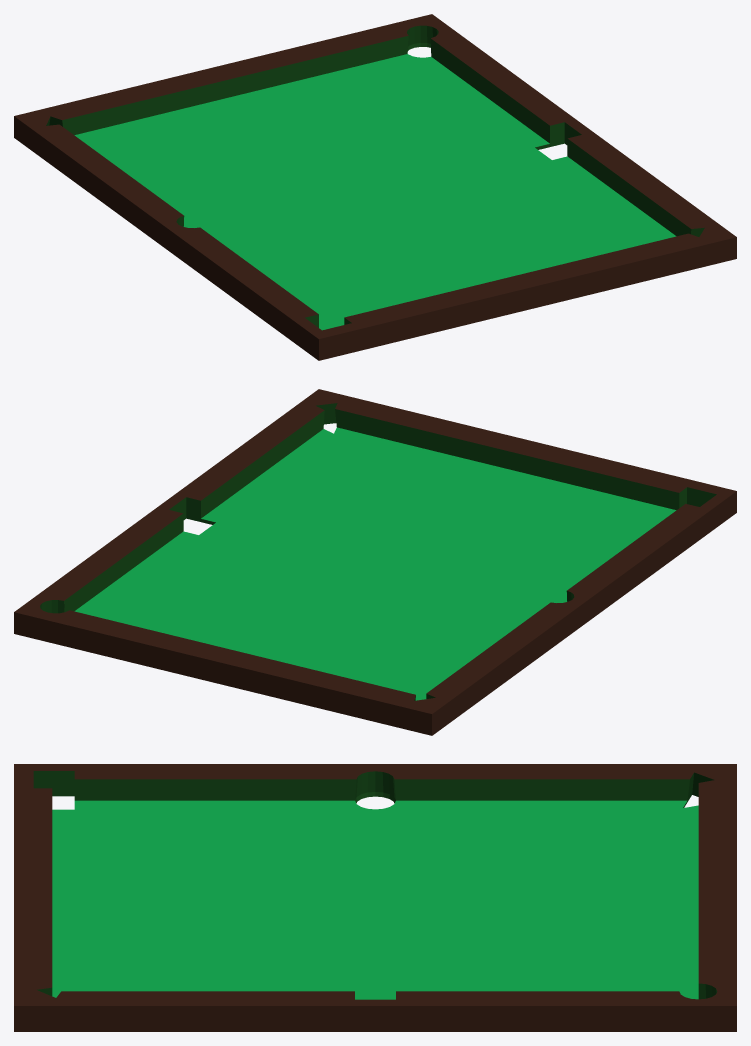
Rendered from board.fbx.
3 views of the same model, one above another, from view 1: azimuth 30°, elevation 25°; view 2: azimuth 150°, elevation 25°; view 3: azimuth 270°, elevation 25° (orthographic). The views are drawn at different scales.
Parts seen in each view (by area): view 1: board; view 2: board; view 3: board.
Part boxes in pixels (left/top/right/bottom): board: left=14, top=14, right=736, bottom=360; board: left=14, top=389, right=736, bottom=735; board: left=14, top=764, right=736, bottom=1031.
Bounding box in the file's own units: 18.55 × 23.43 × 0.9214.
